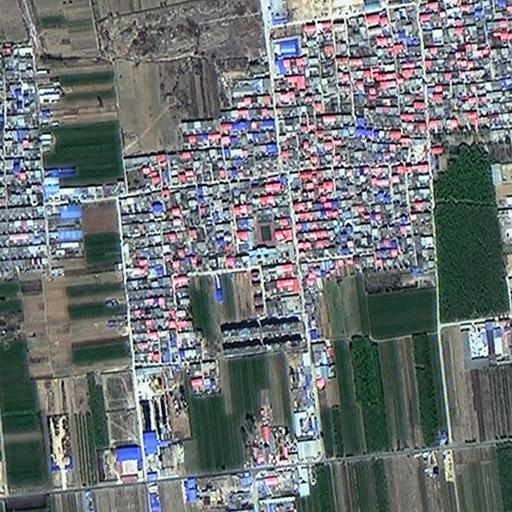school: (252, 218, 278, 264)
